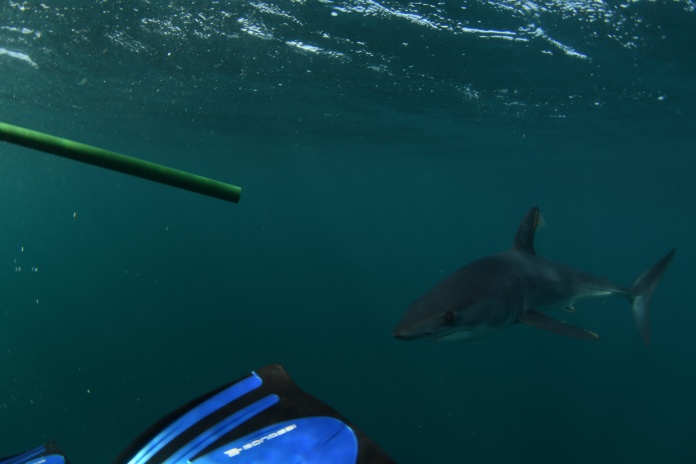Mako: (384, 199, 679, 361)
